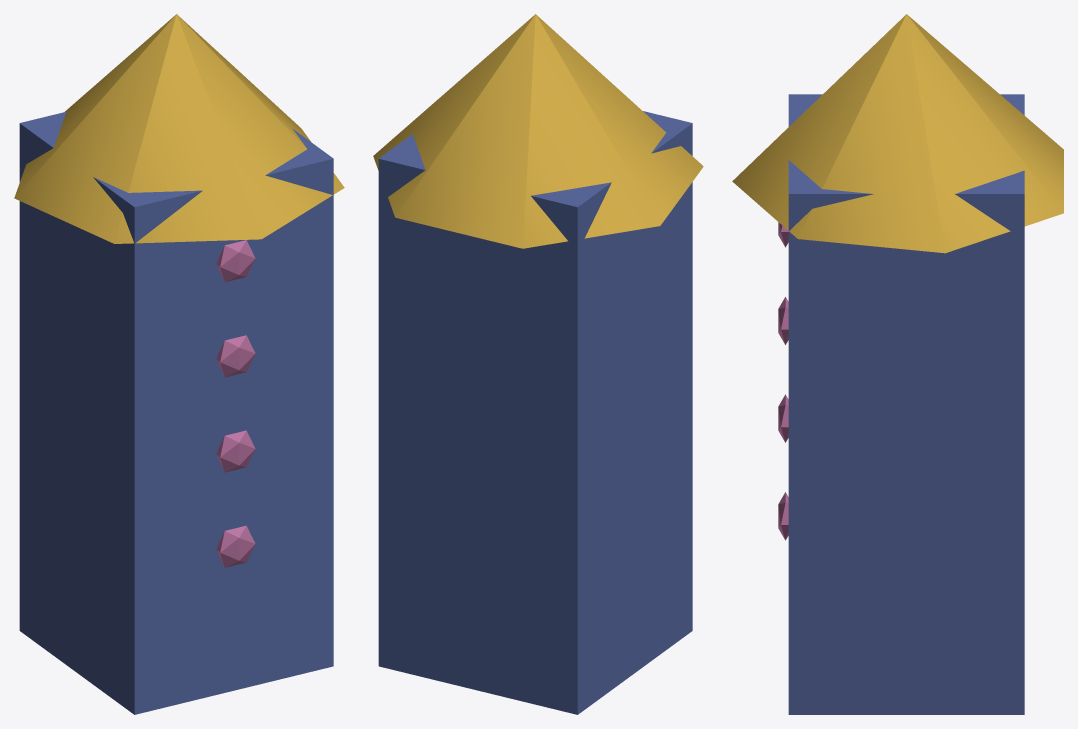
The model's file is watchtower.glb.
3 views of the same model, side by side, from view 1: azimuth 30°, elevation 25°; view 2: azimuth 150°, elevation 25°; view 3: azimuth 270°, elevation 25° (orthographic). The views are drawn at different scales.
Parts seen in each view (by area): view 1: tower_body, tower_crown, window_3, window_0, window_1, window_2; view 2: tower_body, tower_crown; view 3: tower_body, tower_crown.
Part boxes in pixels (x1=…): tower_body: x1=19, y1=111, x2=333, y2=714; tower_crown: x1=14, y1=14, x2=344, y2=243; window_3: x1=216, y1=240, x2=255, y2=282; window_0: x1=216, y1=525, x2=255, y2=567; window_1: x1=216, y1=430, x2=255, y2=472; window_2: x1=216, y1=335, x2=255, y2=377; tower_body: x1=378, y1=111, x2=692, y2=714; tower_crown: x1=373, y1=14, x2=703, y2=248; tower_body: x1=788, y1=94, x2=1024, y2=714; tower_crown: x1=732, y1=14, x2=1063, y2=253.
Size of what is drawn, in the model's own units: 3.31 by 7 by 3.23.
